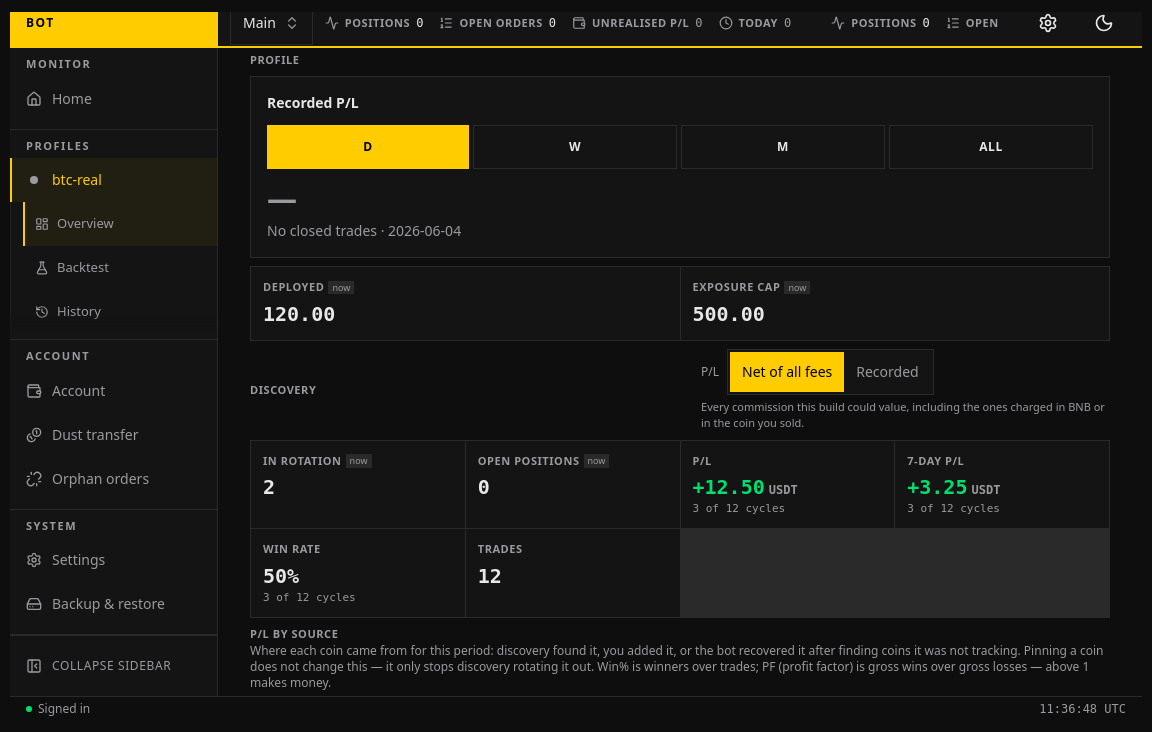
Scenario: Home KPI surface — scoped vs unscoped › drops the realised denominators under Recorded, which is summed over every cycle
The width and height of the screenshot is (1152, 732).
(page scrolled)
Expected: the text "3 of 12 cycles" is shown, top-left (692, 502), bottom-right (785, 515)
Click the tab with test id "pnl-basis-gross" at coordinates (888, 372), box top-left (844, 352), bottom-right (931, 392)
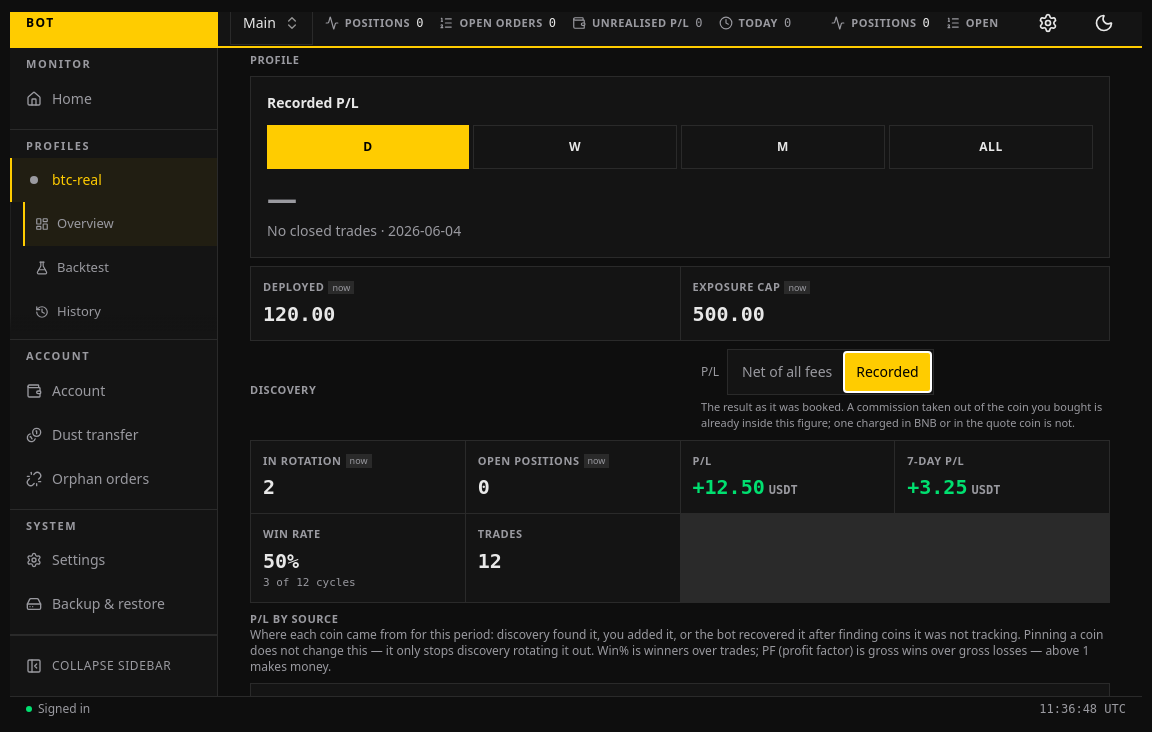
Expected: the text with test id "scoped-win-rate-coverage" reads "3 of 12 cycles", top-left (263, 576), bottom-right (356, 588)
Result: the text with test id "scoped-realised-coverage" is gone
Result: the text with test id "scoped-realised-7d-coverage" is gone
